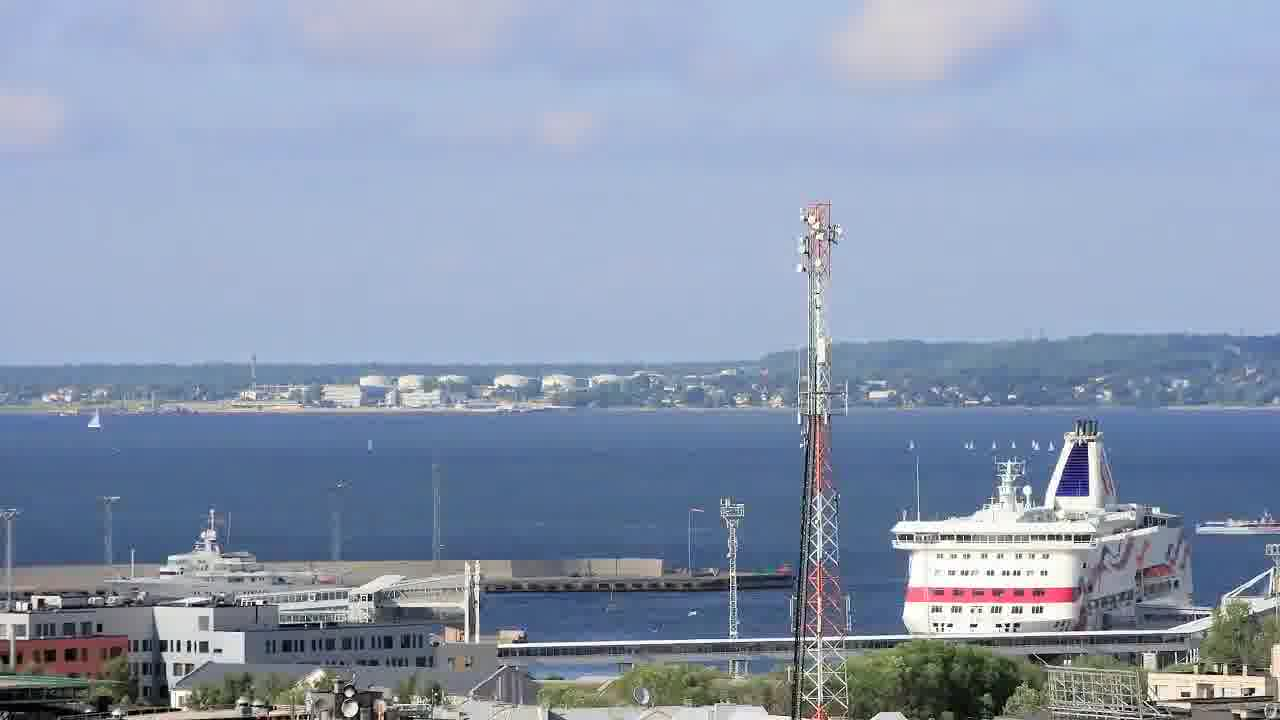type-1: (1189, 504, 1279, 548)
type-2: (74, 387, 115, 445)
type-3: (868, 415, 1225, 638), (84, 537, 359, 610)
